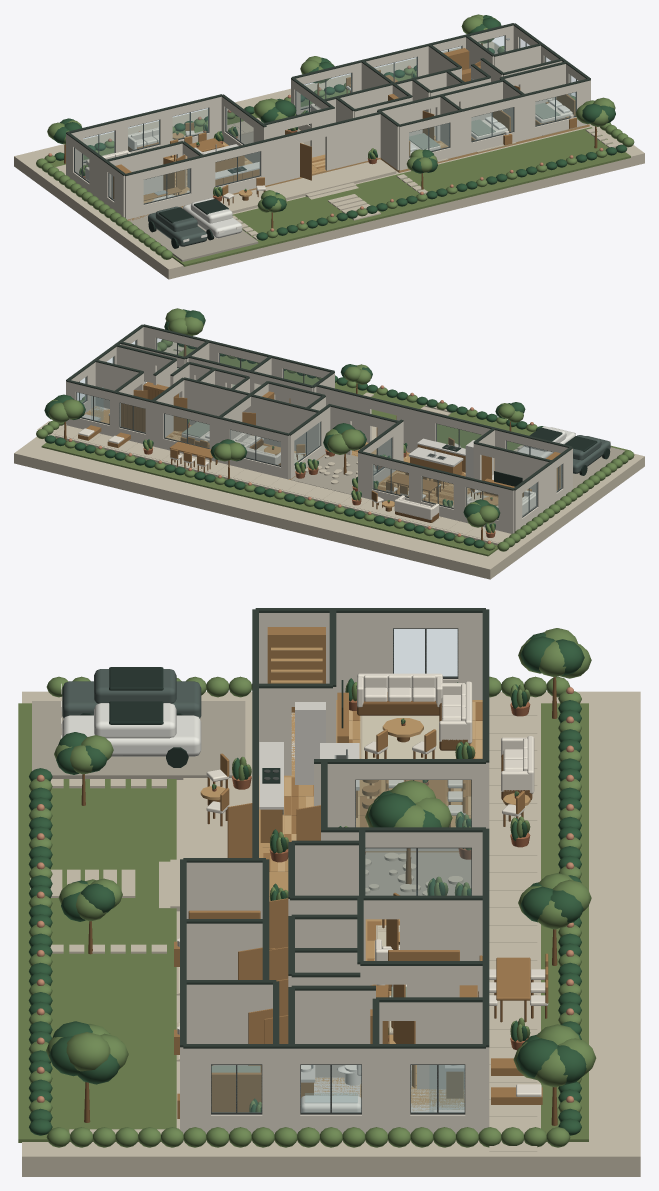
The model's file is courtyard-house.glb.
The picture shows the model from 3 angles, top to bottom: view 1: azimuth 30°, elevation 25°; view 2: azimuth 150°, elevation 25°; view 3: azimuth 270°, elevation 25°; orthographic projection. The views are drawn at different scales.
Parts seen in each view (by area): view 1: walls • Lime plaster, site • Lawn, glazing • Architectural glazing, base • Limestone, walls • Charcoal cap, landscape • Light leaves, landscape • Leaves, furniture • Oak, floor • Limestone, glazing • Metal, floor • Gravel, furniture • Cream linen (+8 smaller); view 2: walls • Lime plaster, base • Limestone, glazing • Architectural glazing, landscape • Light leaves, walls • Charcoal cap, site • Lawn, landscape • Leaves, details • Limestone, furniture • Oak, furniture • Cream linen, floor • Gravel, glazing • Metal (+10 smaller); view 3: walls • Lime plaster, site • Lawn, base • Limestone, landscape • Light leaves, landscape • Leaves, walls • Charcoal cap, glazing • Architectural glazing, furniture • Oak, details • Limestone, floor • Gravel, furniture • Cream linen, doors • Oak (+20 smaller).
Part boxes in pixels (x1=…): walls • Lime plaster: x1=66, y1=25, x2=590, y2=219; site • Lawn: x1=51, y1=74, x2=630, y2=266; glazing • Architectural glazing: x1=74, y1=36, x2=577, y2=203; base • Limestone: x1=14, y1=41, x2=644, y2=279; walls • Charcoal cap: x1=66, y1=23, x2=590, y2=175; landscape • Light leaves: x1=36, y1=14, x2=634, y2=259; landscape • Leaves: x1=53, y1=15, x2=627, y2=240; furniture • Oak: x1=113, y1=48, x2=576, y2=200; floor • Limestone: x1=55, y1=105, x2=396, y2=213; glazing • Metal: x1=74, y1=35, x2=576, y2=204; floor • Gravel: x1=130, y1=128, x2=310, y2=261; furniture • Cream linen: x1=85, y1=86, x2=573, y2=199; walls • Lime plaster: x1=66, y1=327, x2=572, y2=533; base • Limestone: x1=14, y1=342, x2=644, y2=579; glazing • Architectural glazing: x1=77, y1=338, x2=562, y2=516; landscape • Light leaves: x1=36, y1=308, x2=634, y2=551; walls • Charcoal cap: x1=66, y1=324, x2=572, y2=490; site • Lawn: x1=41, y1=346, x2=630, y2=556; landscape • Leaves: x1=44, y1=309, x2=543, y2=548; details • Limestone: x1=37, y1=421, x2=511, y2=542; furniture • Oak: x1=78, y1=382, x2=560, y2=501; furniture • Cream linen: x1=78, y1=428, x2=535, y2=519; floor • Gravel: x1=291, y1=447, x2=624, y2=494; glazing • Metal: x1=76, y1=337, x2=562, y2=519; walls • Lime plaster: x1=180, y1=613, x2=489, y2=1134; site • Lawn: x1=18, y1=703, x2=588, y2=1142; base • Limestone: x1=22, y1=691, x2=640, y2=1176; landscape • Light leaves: x1=28, y1=628, x2=596, y2=1147; landscape • Leaves: x1=28, y1=632, x2=586, y2=1135; walls • Charcoal cap: x1=180, y1=608, x2=489, y2=1048; glazing • Architectural glazing: x1=211, y1=629, x2=471, y2=1112; furniture • Oak: x1=174, y1=627, x2=548, y2=1118; details • Limestone: x1=489, y1=698, x2=537, y2=1151; floor • Gravel: x1=32, y1=701, x2=471, y2=895; furniture • Cream linen: x1=177, y1=673, x2=548, y2=1096; doors • Oak: x1=227, y1=803, x2=415, y2=1088.
Bounding box in the file's own units: 32.19 × 3.84 × 18.1.
